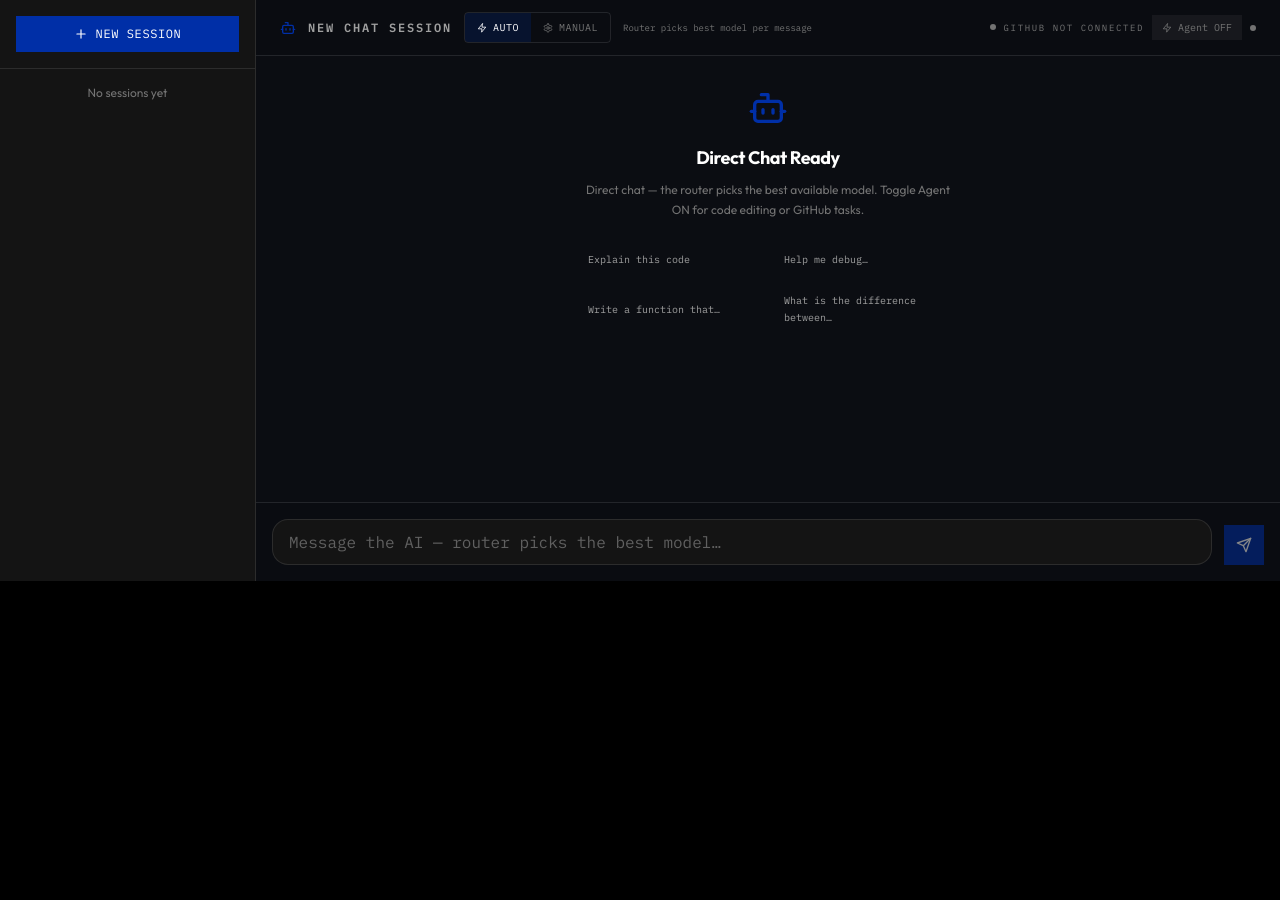
it: shows an Agent Mode retry action for direct-chat handoff responses
The width and height of the screenshot is (1280, 900).
Type "Open a PR for this fix" into the text box with test id "chat-input" at (742, 542), box left=272, top=519, right=1212, bottom=565
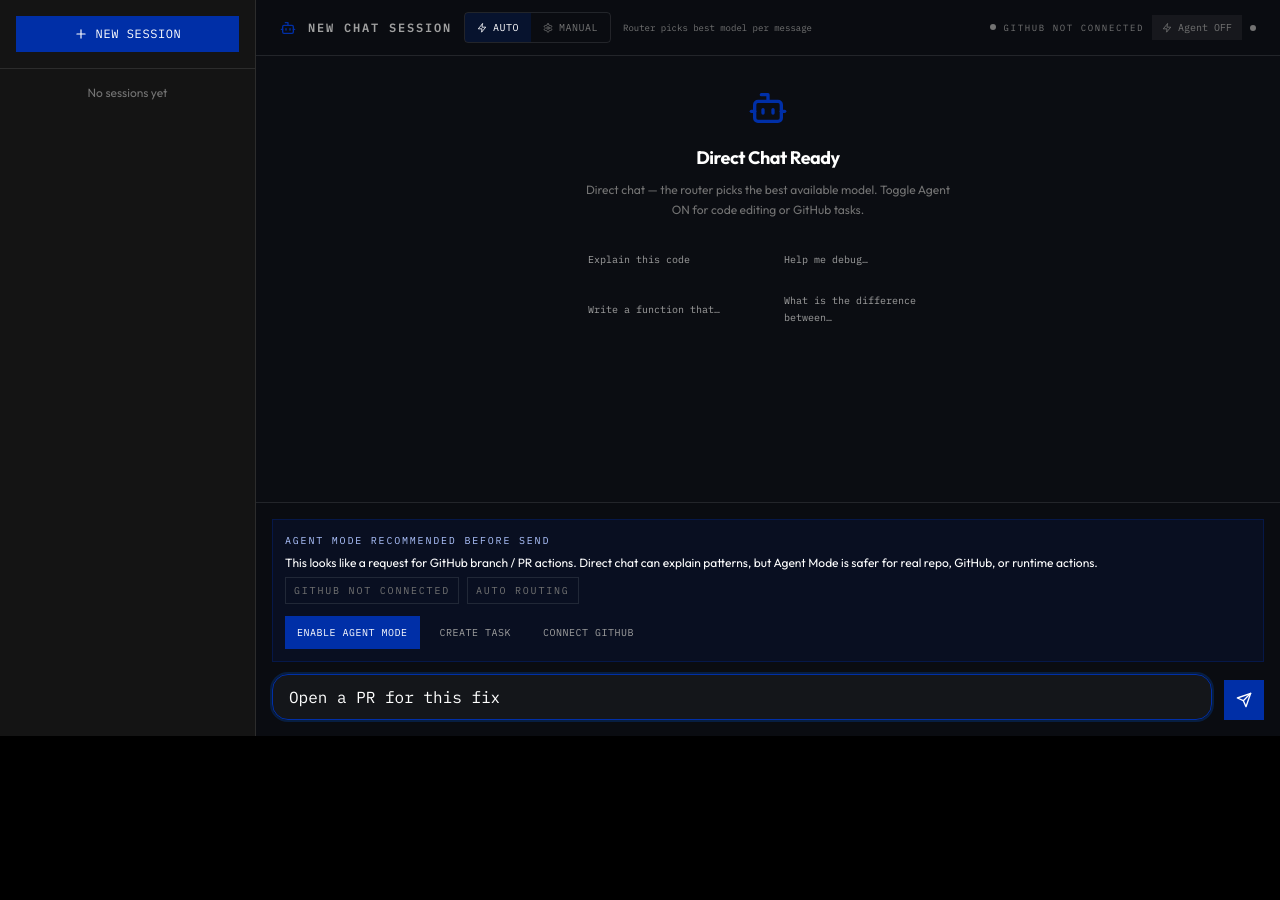
Click the button with test id "chat-send-button" at (1244, 700), box left=1224, top=680, right=1264, bottom=720
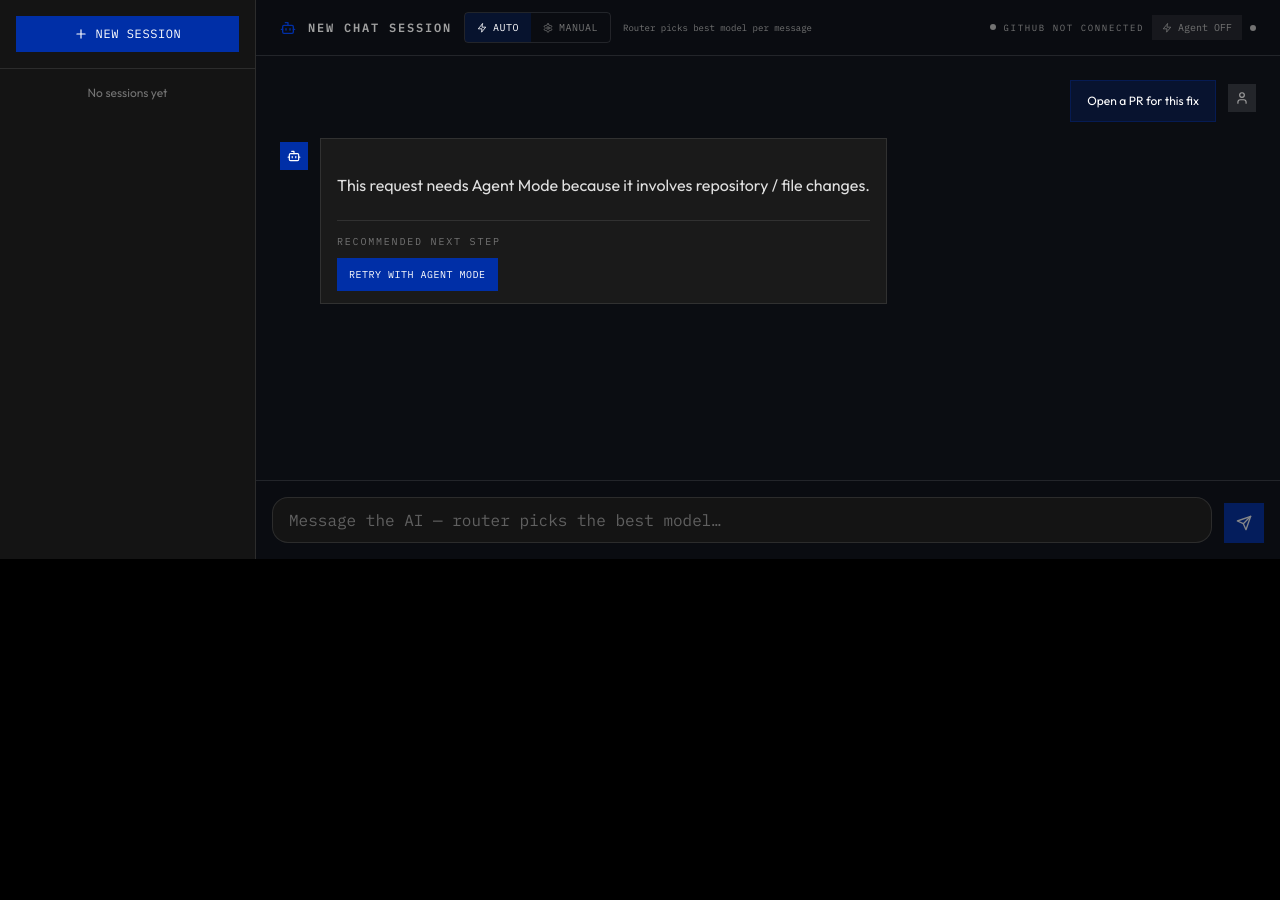
Result: the text "needs Agent Mode" is shown at left=337, top=175, right=870, bottom=195
Click the button with test id "retry-with-agent-mode-button" at (417, 274), box left=337, top=258, right=498, bottom=291
(page scrolled)
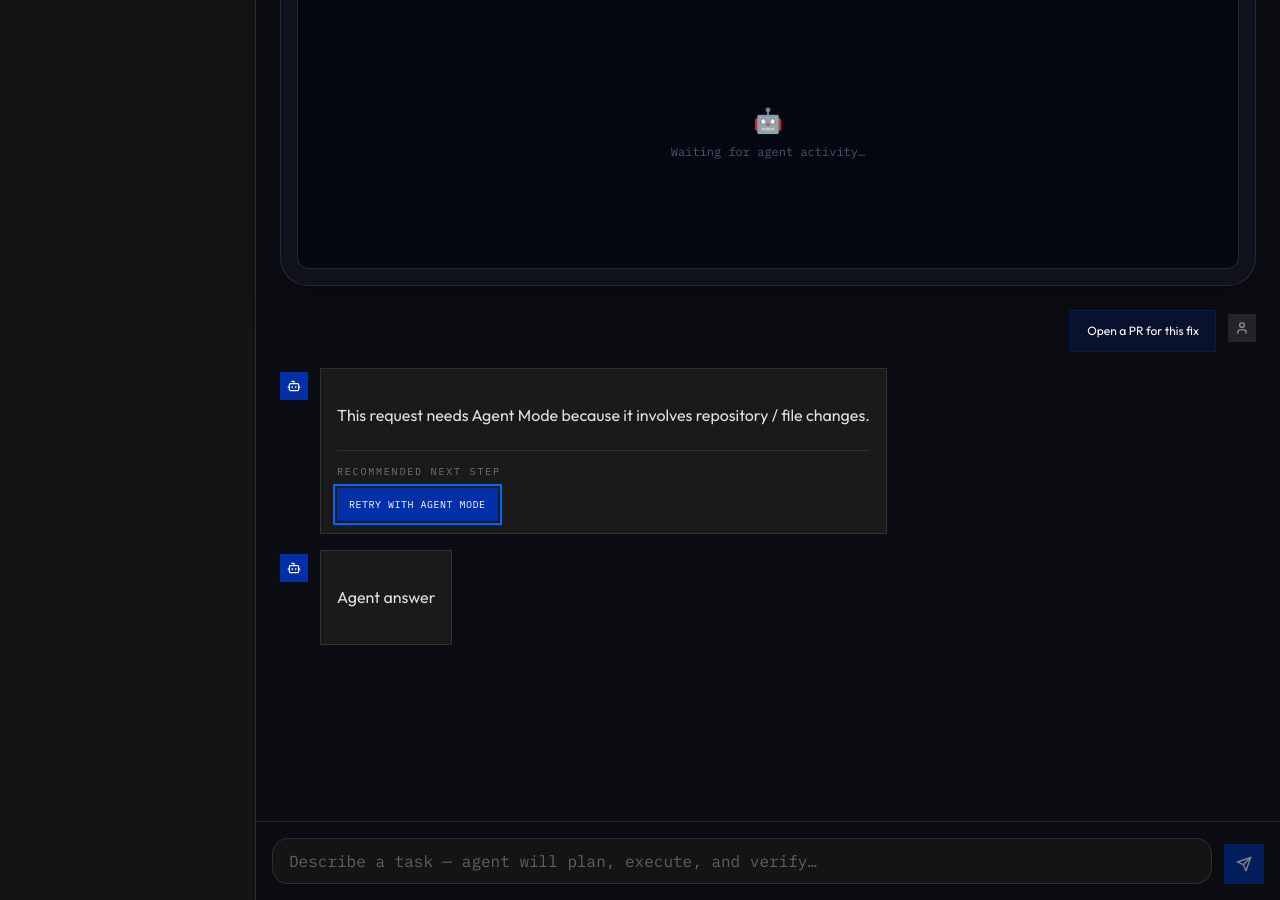
Result: the text "Open a PR for this fix" is shown at left=1087, top=323, right=1199, bottom=339
Result: the text "Agent answer" is shown at left=337, top=583, right=435, bottom=612
